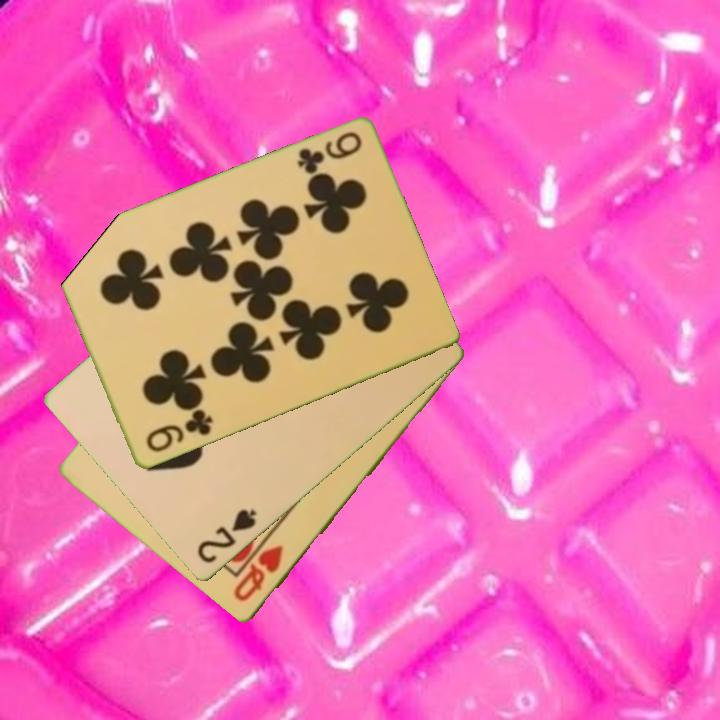2s: (193, 506, 260, 567)
9c: (142, 406, 216, 456), (293, 128, 365, 178)
Qh: (230, 542, 286, 605)
